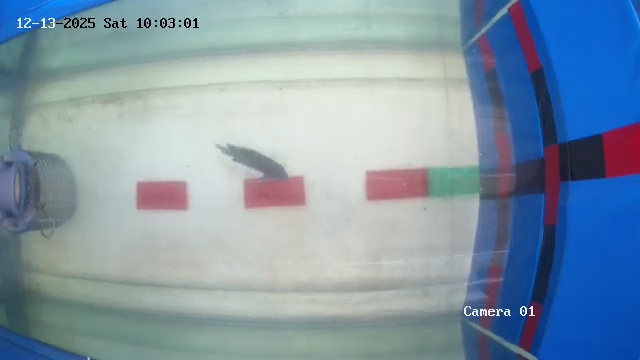fish: (218, 130, 292, 193)
